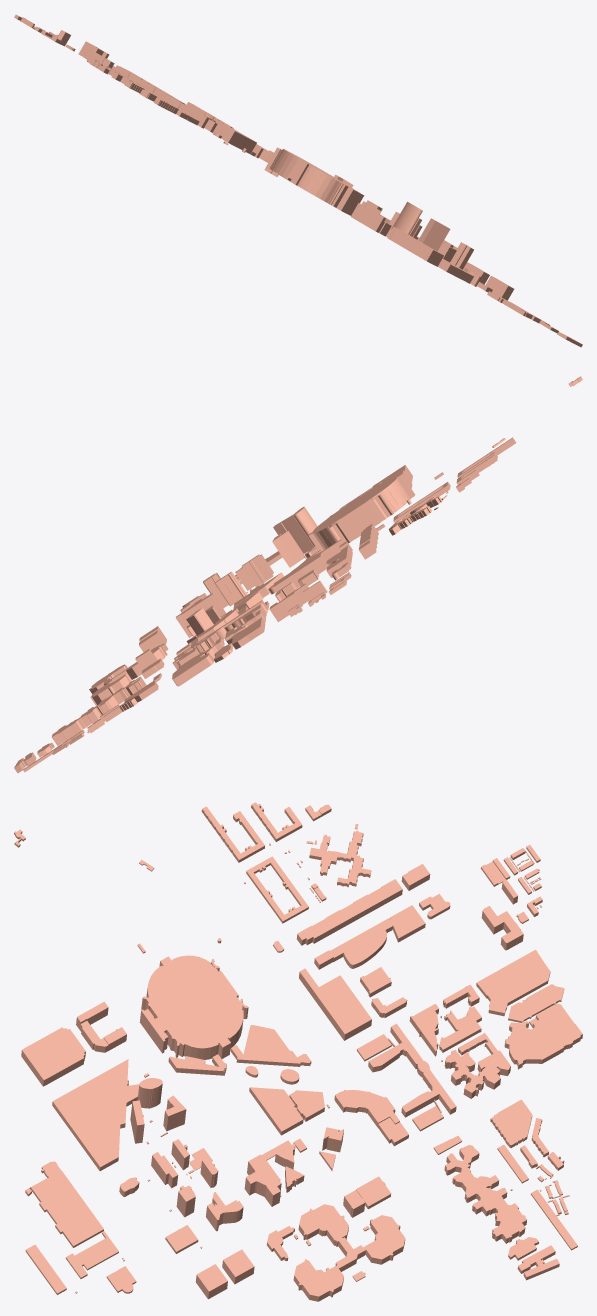
3 views of the same model, one above another, from view 1: azimuth 30°, elevation 25°; view 2: azimuth 150°, elevation 25°; view 3: azimuth 270°, elevation 25° (orthographic). The views are drawn at different scales.
Size of the model in its own units: 1018 by 781 by 1275.
